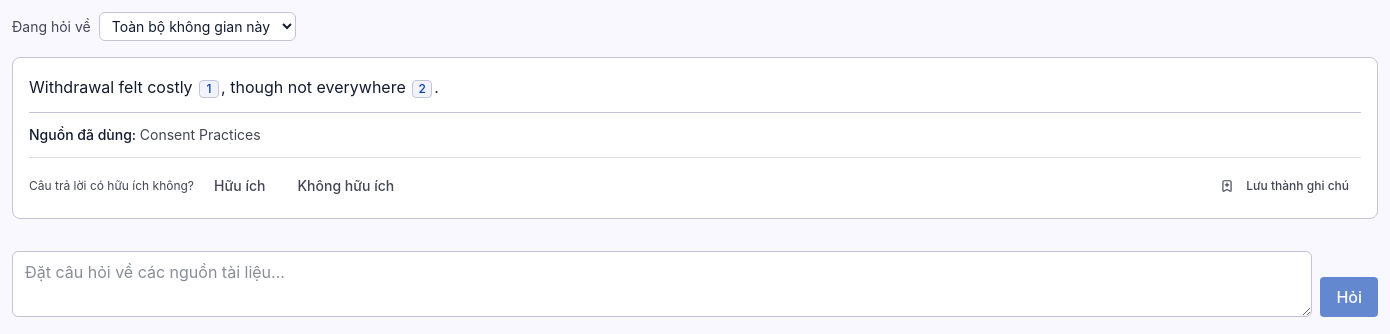
Test case: assistant pane › saves an assistant answer as a note and marks button saved
Click the button "Lưu thành ghi chú".
click(1285, 186)  # box [1208,170,1361,202]
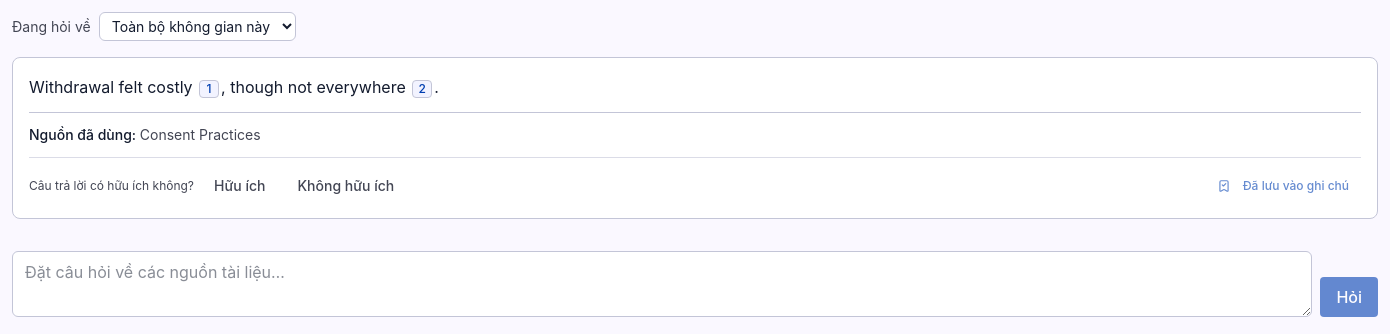
Now the text "Đã lưu vào ghi chú" is shown, box [1243,178,1349,194]
